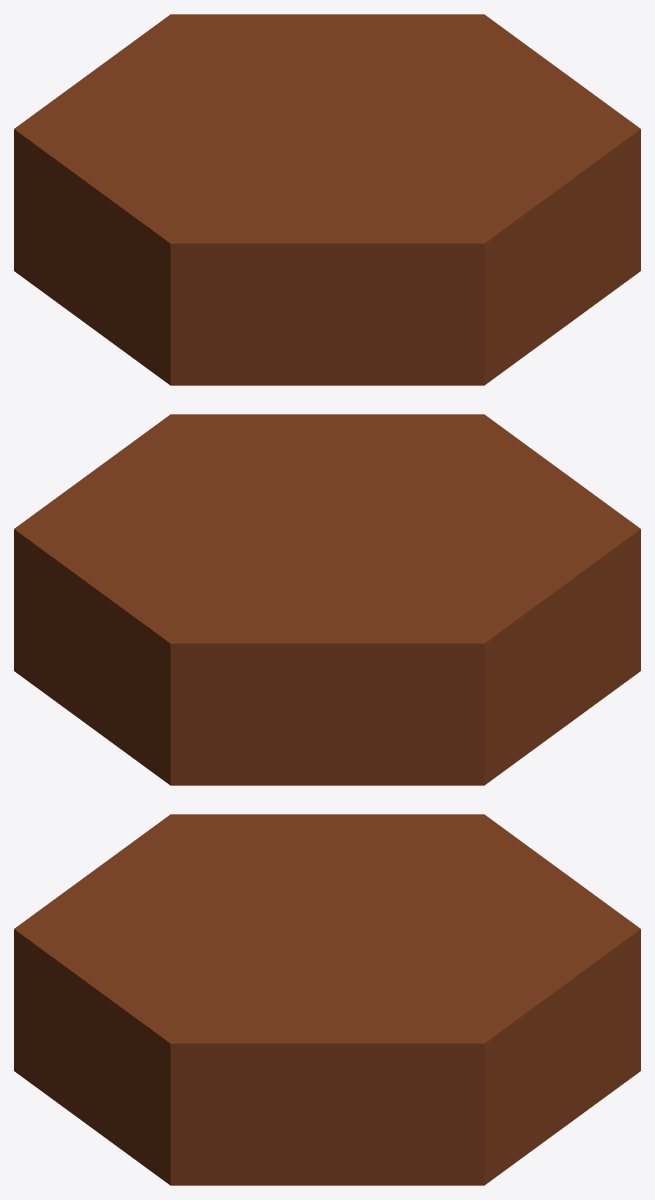
The model's file is land.glb.
The picture shows the model from 3 angles, top to bottom: view 1: azimuth 30°, elevation 25°; view 2: azimuth 150°, elevation 25°; view 3: azimuth 270°, elevation 25°; orthographic projection.
Visible parts, largest first — view 1: 柱体; view 2: 柱体; view 3: 柱体.
Part boxes in pixels (bbox=[...]): 柱体: bbox=[14, 14, 640, 385]; 柱体: bbox=[14, 414, 640, 785]; 柱体: bbox=[14, 814, 640, 1185].
Bounding box in the file's own units: 6.93 × 2 × 8.
